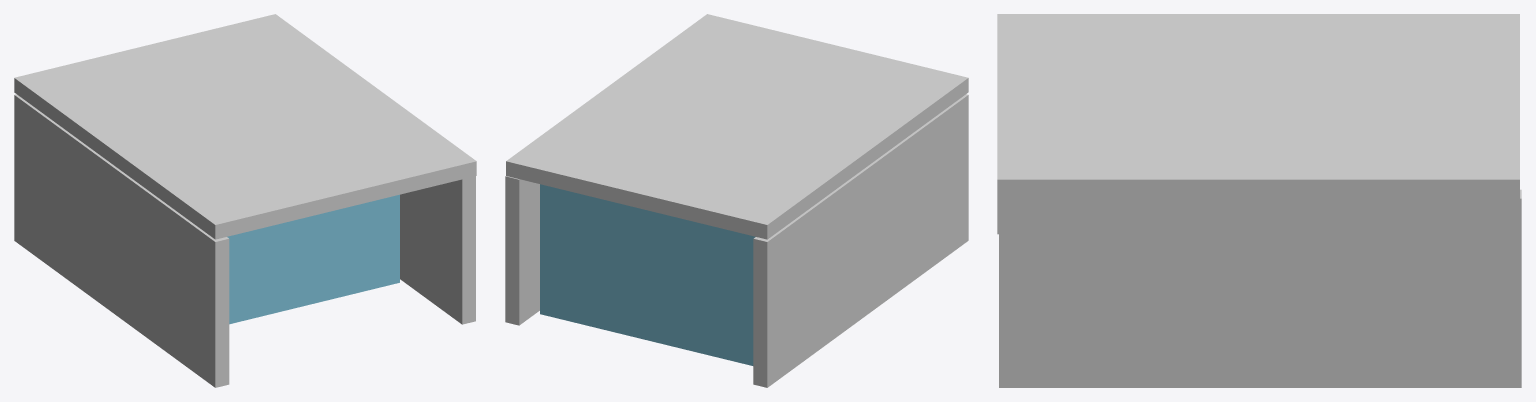
Rendered from tinker.obj.
The picture shows the model from 3 angles, left to right: view 1: azimuth 30°, elevation 25°; view 2: azimuth 150°, elevation 25°; view 3: azimuth 270°, elevation 25°; orthographic projection. The views are drawn at different scales.
Parts seen in each view (by area): view 1: group_0_16448250, group_0_8768998; view 2: group_0_16448250, group_0_8768998; view 3: group_0_16448250.
Part boxes in pixels (x1,y1,x2,y2): group_0_16448250: (14, 14, 476, 387); group_0_8768998: (227, 194, 399, 324); group_0_16448250: (505, 14, 968, 387); group_0_8768998: (540, 184, 755, 365); group_0_16448250: (997, 14, 1521, 387).
Bounding box in the file's own units: 225 × 134 × 301.
